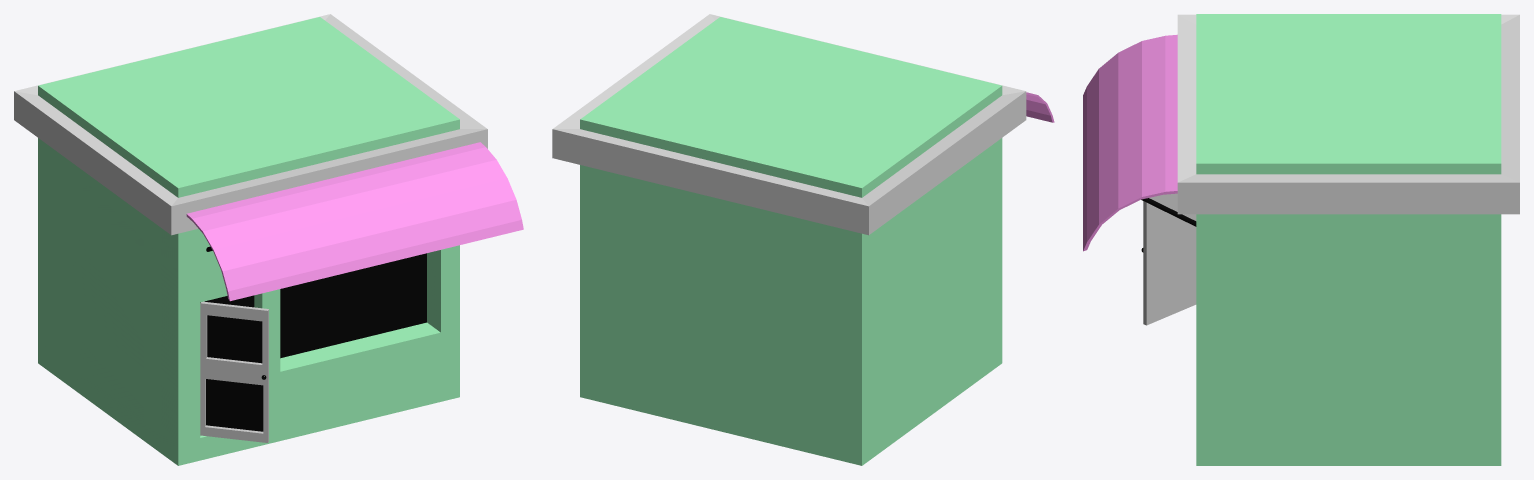
File: Store_green.fbx
The picture shows the model from 3 angles, left to right: view 1: azimuth 30°, elevation 25°; view 2: azimuth 150°, elevation 25°; view 3: azimuth 270°, elevation 25°; orthographic projection. The views are drawn at different scales.
Visible parts, largest first — view 1: Cube.005; view 2: Cube.005; view 3: Cube.005.
Part boxes in pixels (x1=…): Cube.005: x1=14, y1=14, x2=523, y2=465; Cube.005: x1=552, y1=14, x2=1054, y2=465; Cube.005: x1=1083, y1=14, x2=1519, y2=465.
Size of the model in its own units: 261 by 219 by 286.
